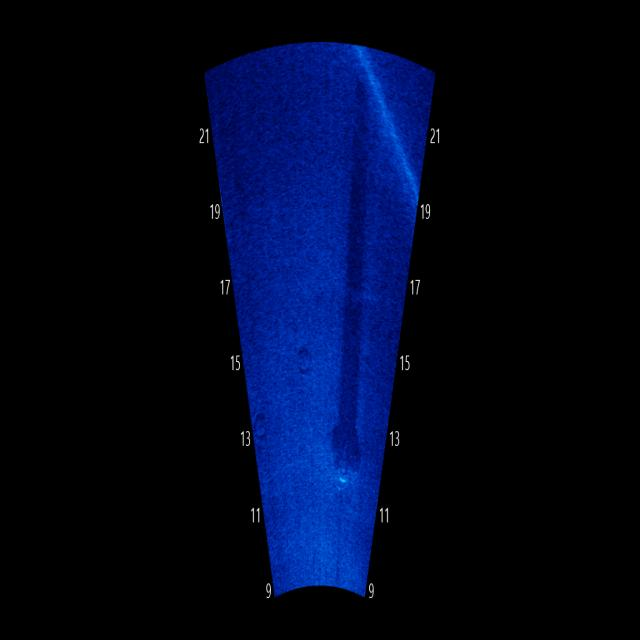circle: (248, 402, 274, 444), (294, 340, 316, 384)
square: (326, 420, 366, 493)
